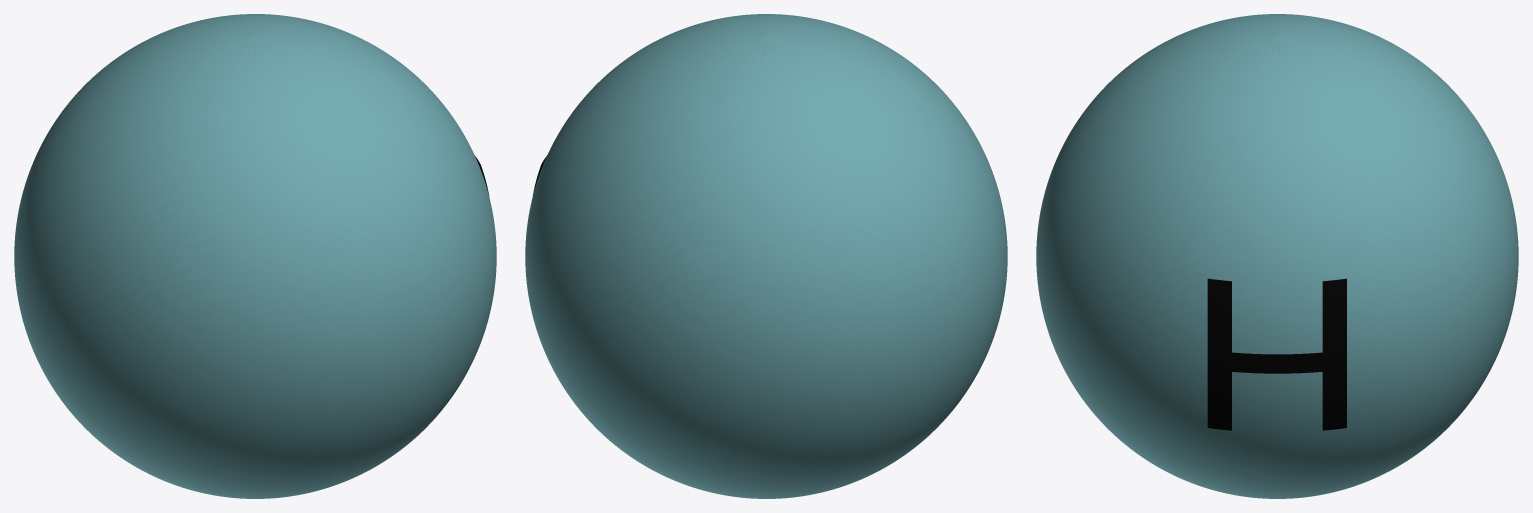
Rendered from Hydrogen (H).fbx.
The picture shows the model from 3 angles, left to right: view 1: azimuth 30°, elevation 25°; view 2: azimuth 150°, elevation 25°; view 3: azimuth 270°, elevation 25°; orthographic projection.
Visible parts, largest first — view 1: Sphere; view 2: Sphere; view 3: Sphere, Text.
Part boxes in pixels (x1,y1,x2,y2): Sphere: (14,14,496,498); Sphere: (525,14,1007,498); Sphere: (1036,14,1518,498); Text: (1207,278,1346,430).
Size of the model in its own units: 198 by 200 by 197.
